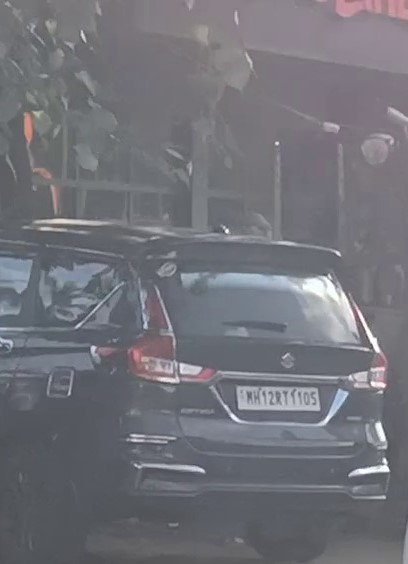MH12RT1105: (236, 385, 319, 409)
